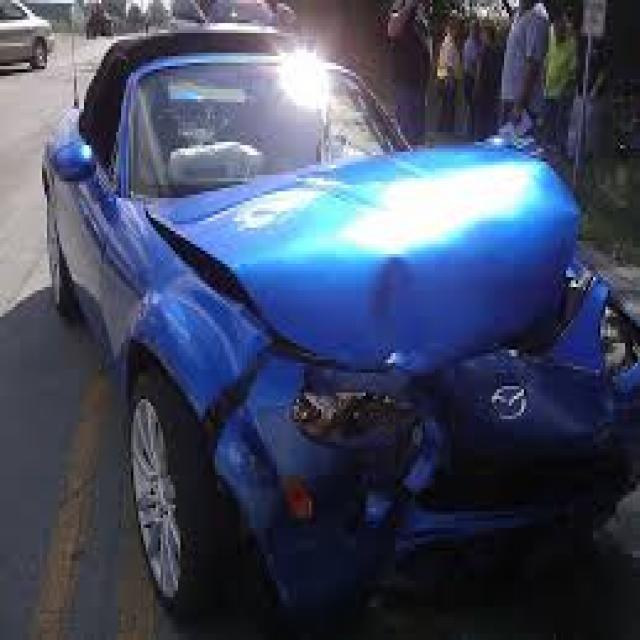damaged-hood: (143, 137, 597, 361)
